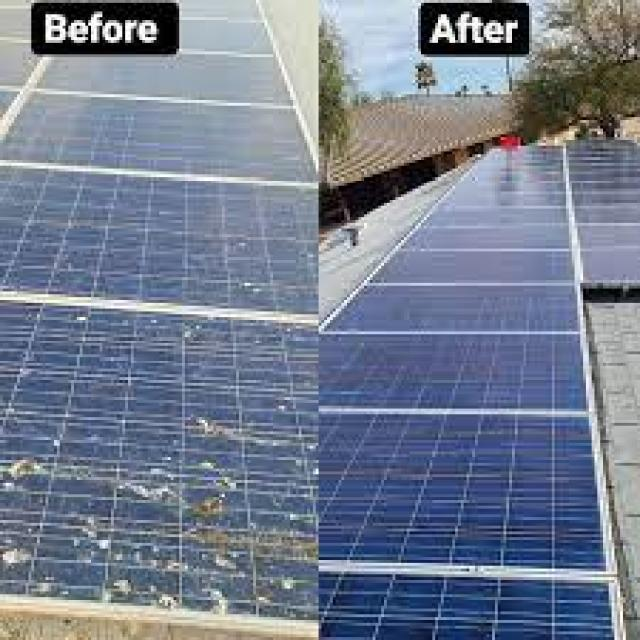clean-solar-panel: (320, 146, 640, 638)
